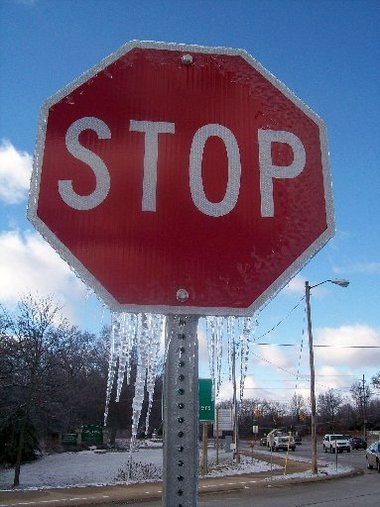stopsign: (33, 42, 332, 316)
